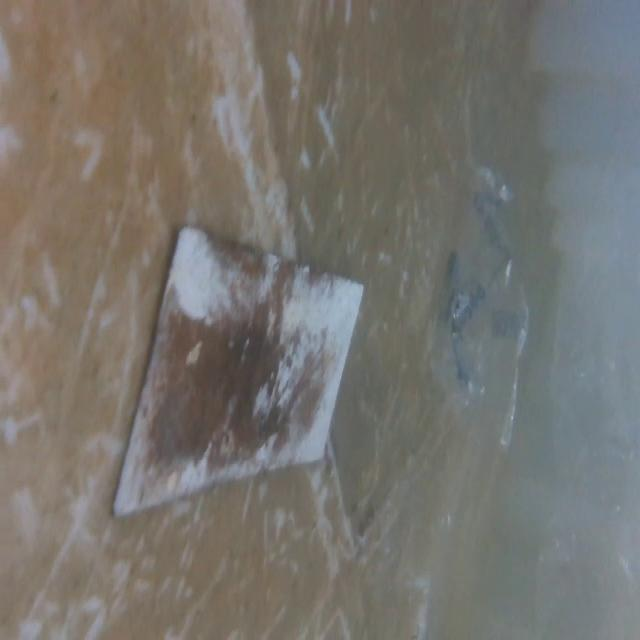metal: (71, 221, 386, 539)
plastic bags: (428, 172, 544, 452)
